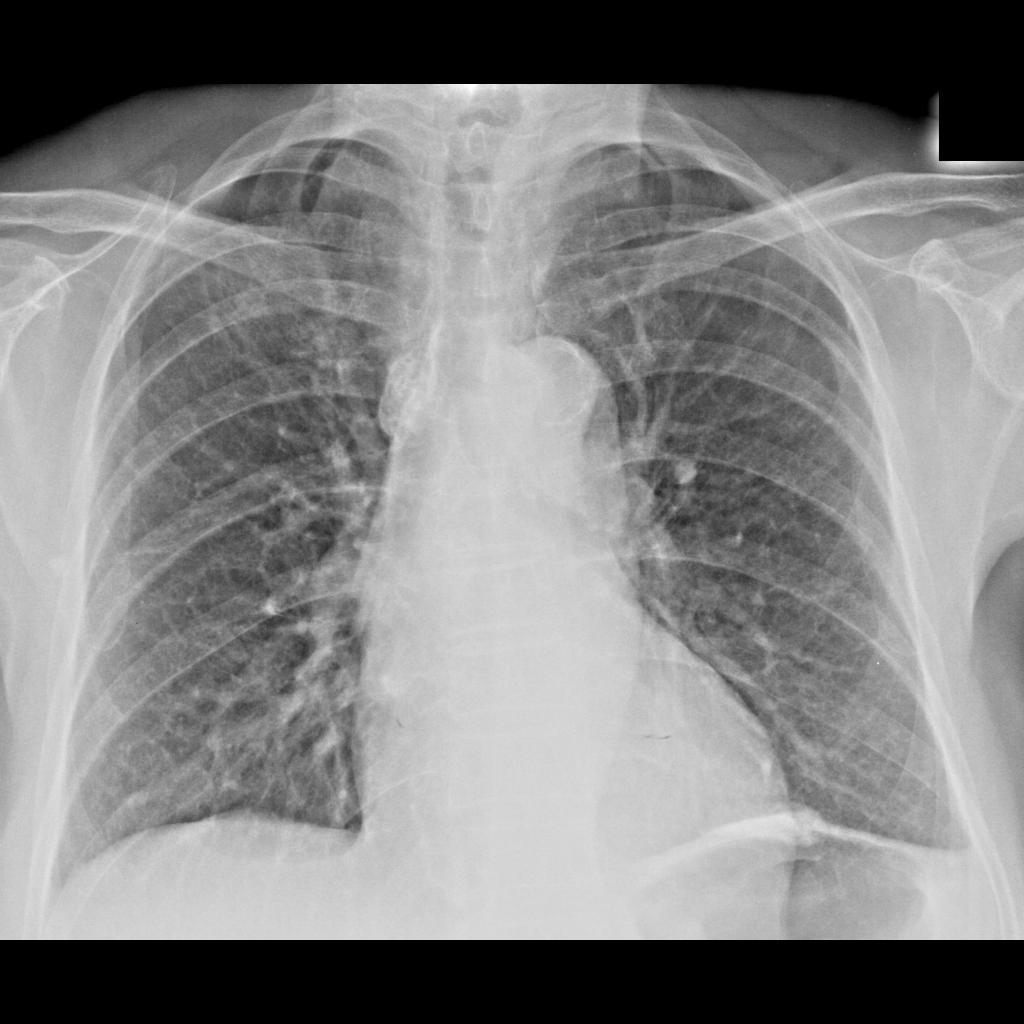Nodule: (203, 255, 296, 347)
